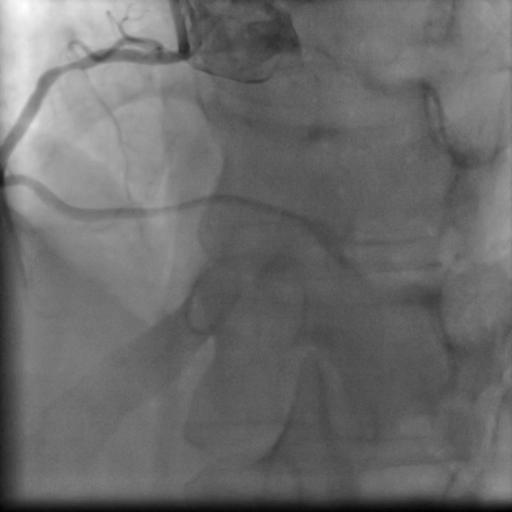Stenosis: (53, 52, 80, 76)
